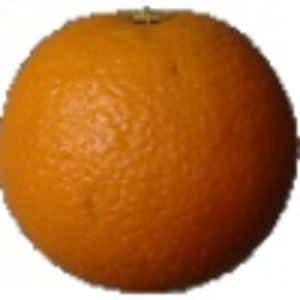laranja: (3, 4, 298, 291)
